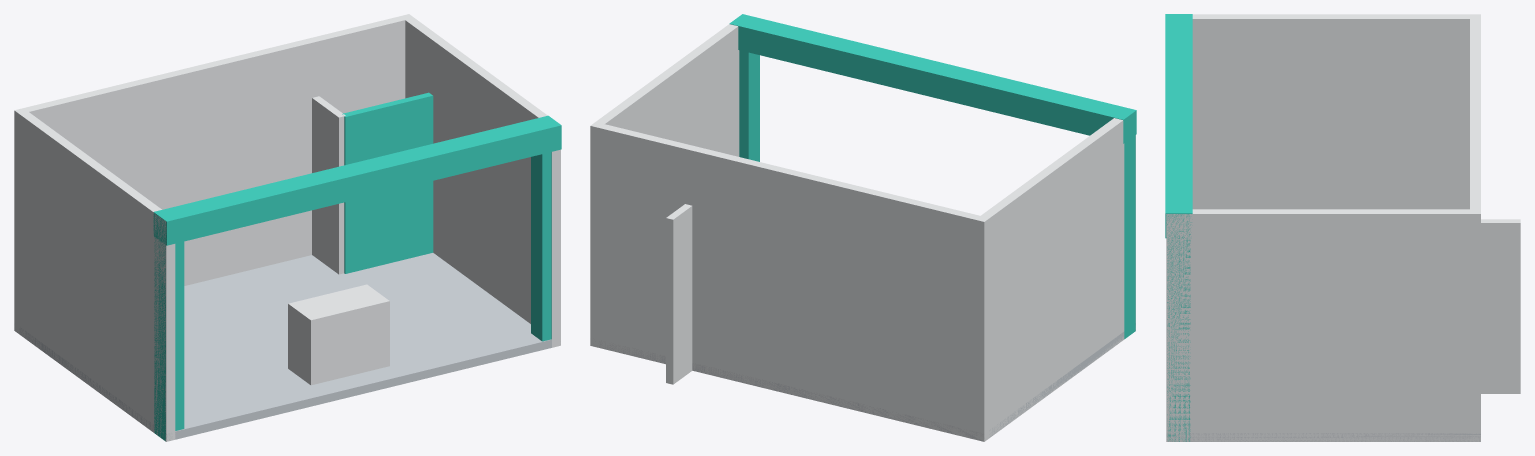
3 renders of one model, left to right at view 1: azimuth 30°, elevation 25°; view 2: azimuth 150°, elevation 25°; view 3: azimuth 270°, elevation 25°, orthographic. The views are drawn at different scales.
Parts seen in each view (by area): view 1: Exhibition Booth Concept; view 2: Exhibition Booth Concept; view 3: Exhibition Booth Concept.
Part boxes in pixels (left/top/right/bottom): Exhibition Booth Concept: left=14, top=14, right=561, bottom=441; Exhibition Booth Concept: left=590, top=14, right=1136, bottom=441; Exhibition Booth Concept: left=1165, top=14, right=1520, bottom=441.
Bounding box in the file's own units: 6 × 3.2 × 4.52.
